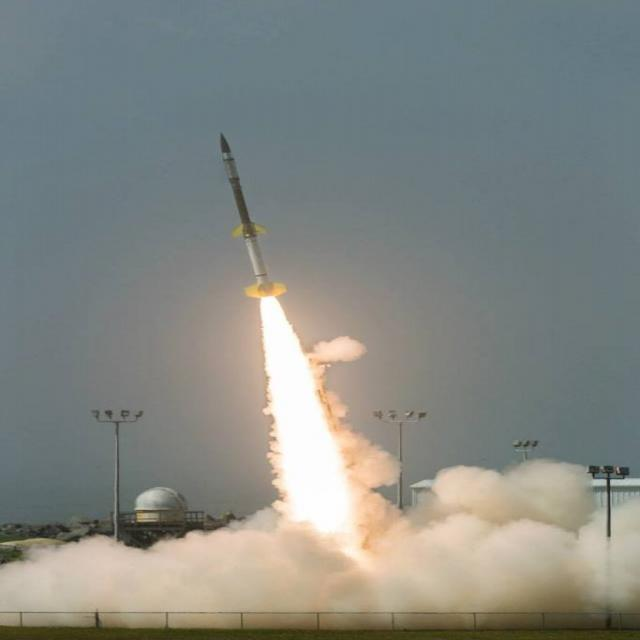missile: (215, 129, 288, 306)
